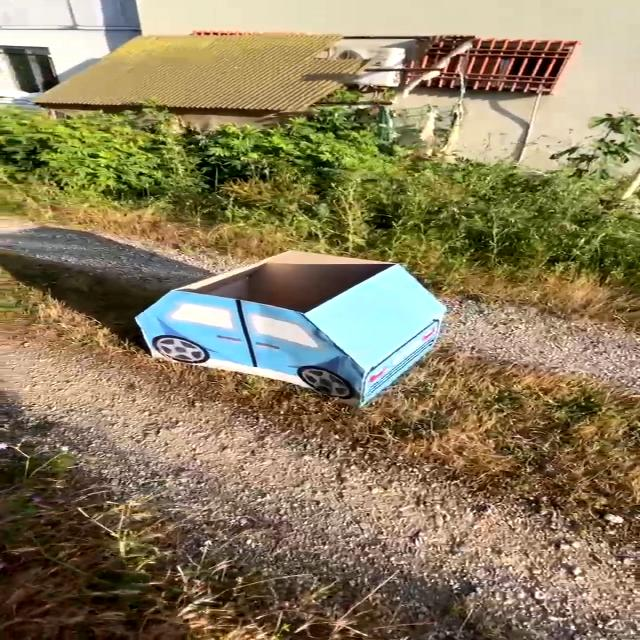blue_car: (61, 222, 493, 434)
